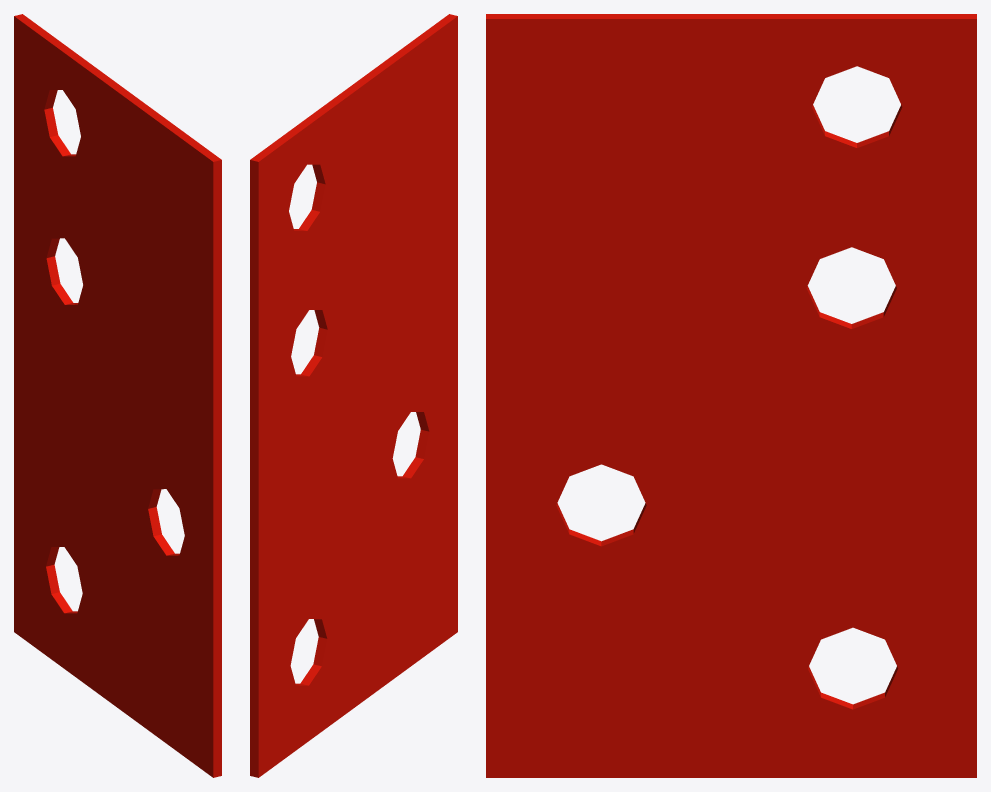
The model's file is board03.fbx.
3 views of the same model, side by side, from view 1: azimuth 30°, elevation 25°; view 2: azimuth 150°, elevation 25°; view 3: azimuth 270°, elevation 25° (orthographic). The views are drawn at different scales.
Parts seen in each view (by area): view 1: Plane.010; view 2: Plane.010; view 3: Plane.010.
Boxes of the visible parts, <box> form: Plane.010: <box>14,14,221,777</box>; Plane.010: <box>250,14,457,777</box>; Plane.010: <box>486,14,976,777</box>.
Bounding box in the file's own units: 9 × 617 × 362.
